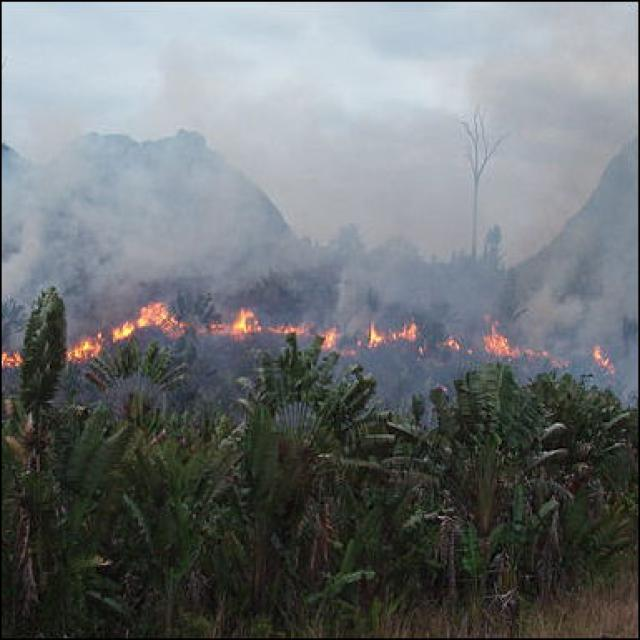fire: (204, 313, 439, 351), (468, 327, 569, 369), (117, 304, 193, 346), (64, 330, 97, 368), (590, 338, 618, 372), (0, 344, 21, 372)
